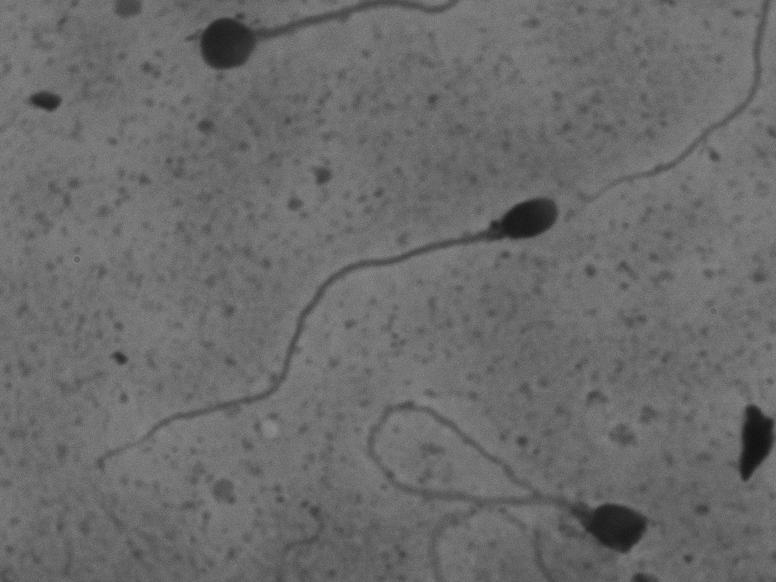Abnormal: (351, 387, 664, 567)
Normal: (54, 179, 578, 481)
